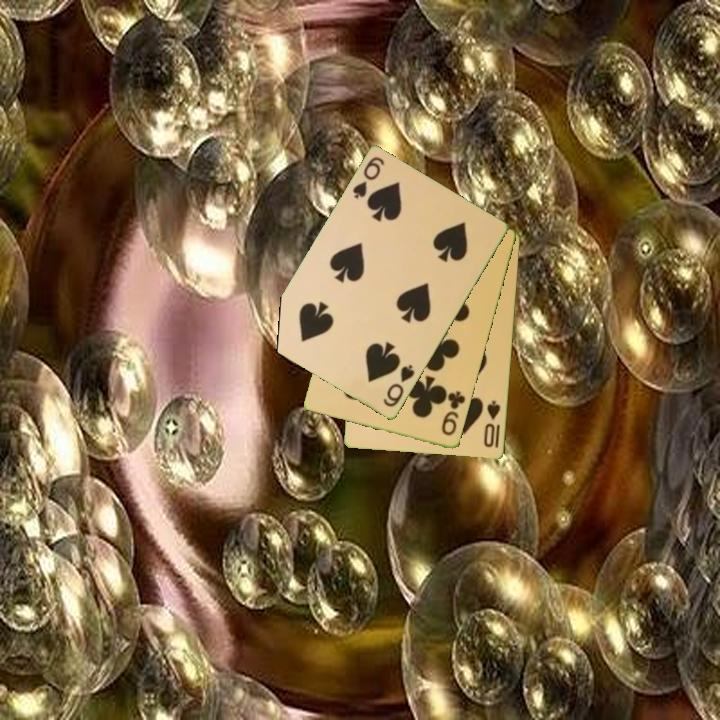10s: (480, 397, 503, 450)
6s: (379, 361, 418, 410), (349, 153, 388, 202)
9c: (438, 387, 468, 439)
